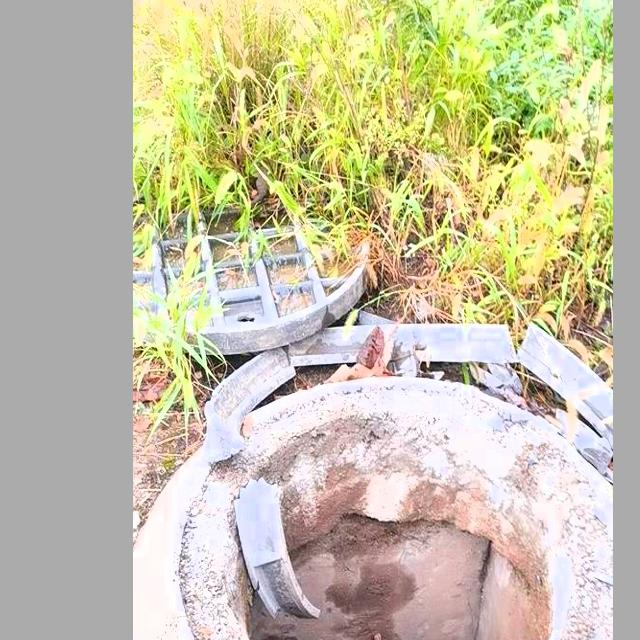uncovered: (140, 89, 599, 640)
